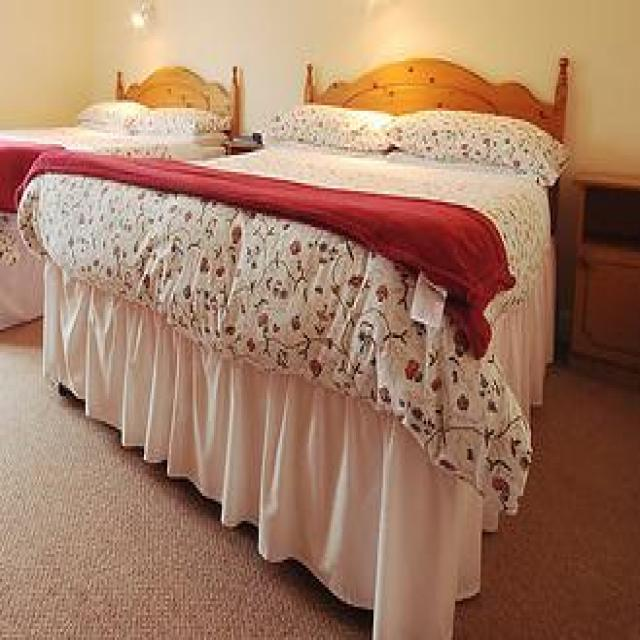bed: (15, 53, 572, 637), (0, 61, 243, 330)
